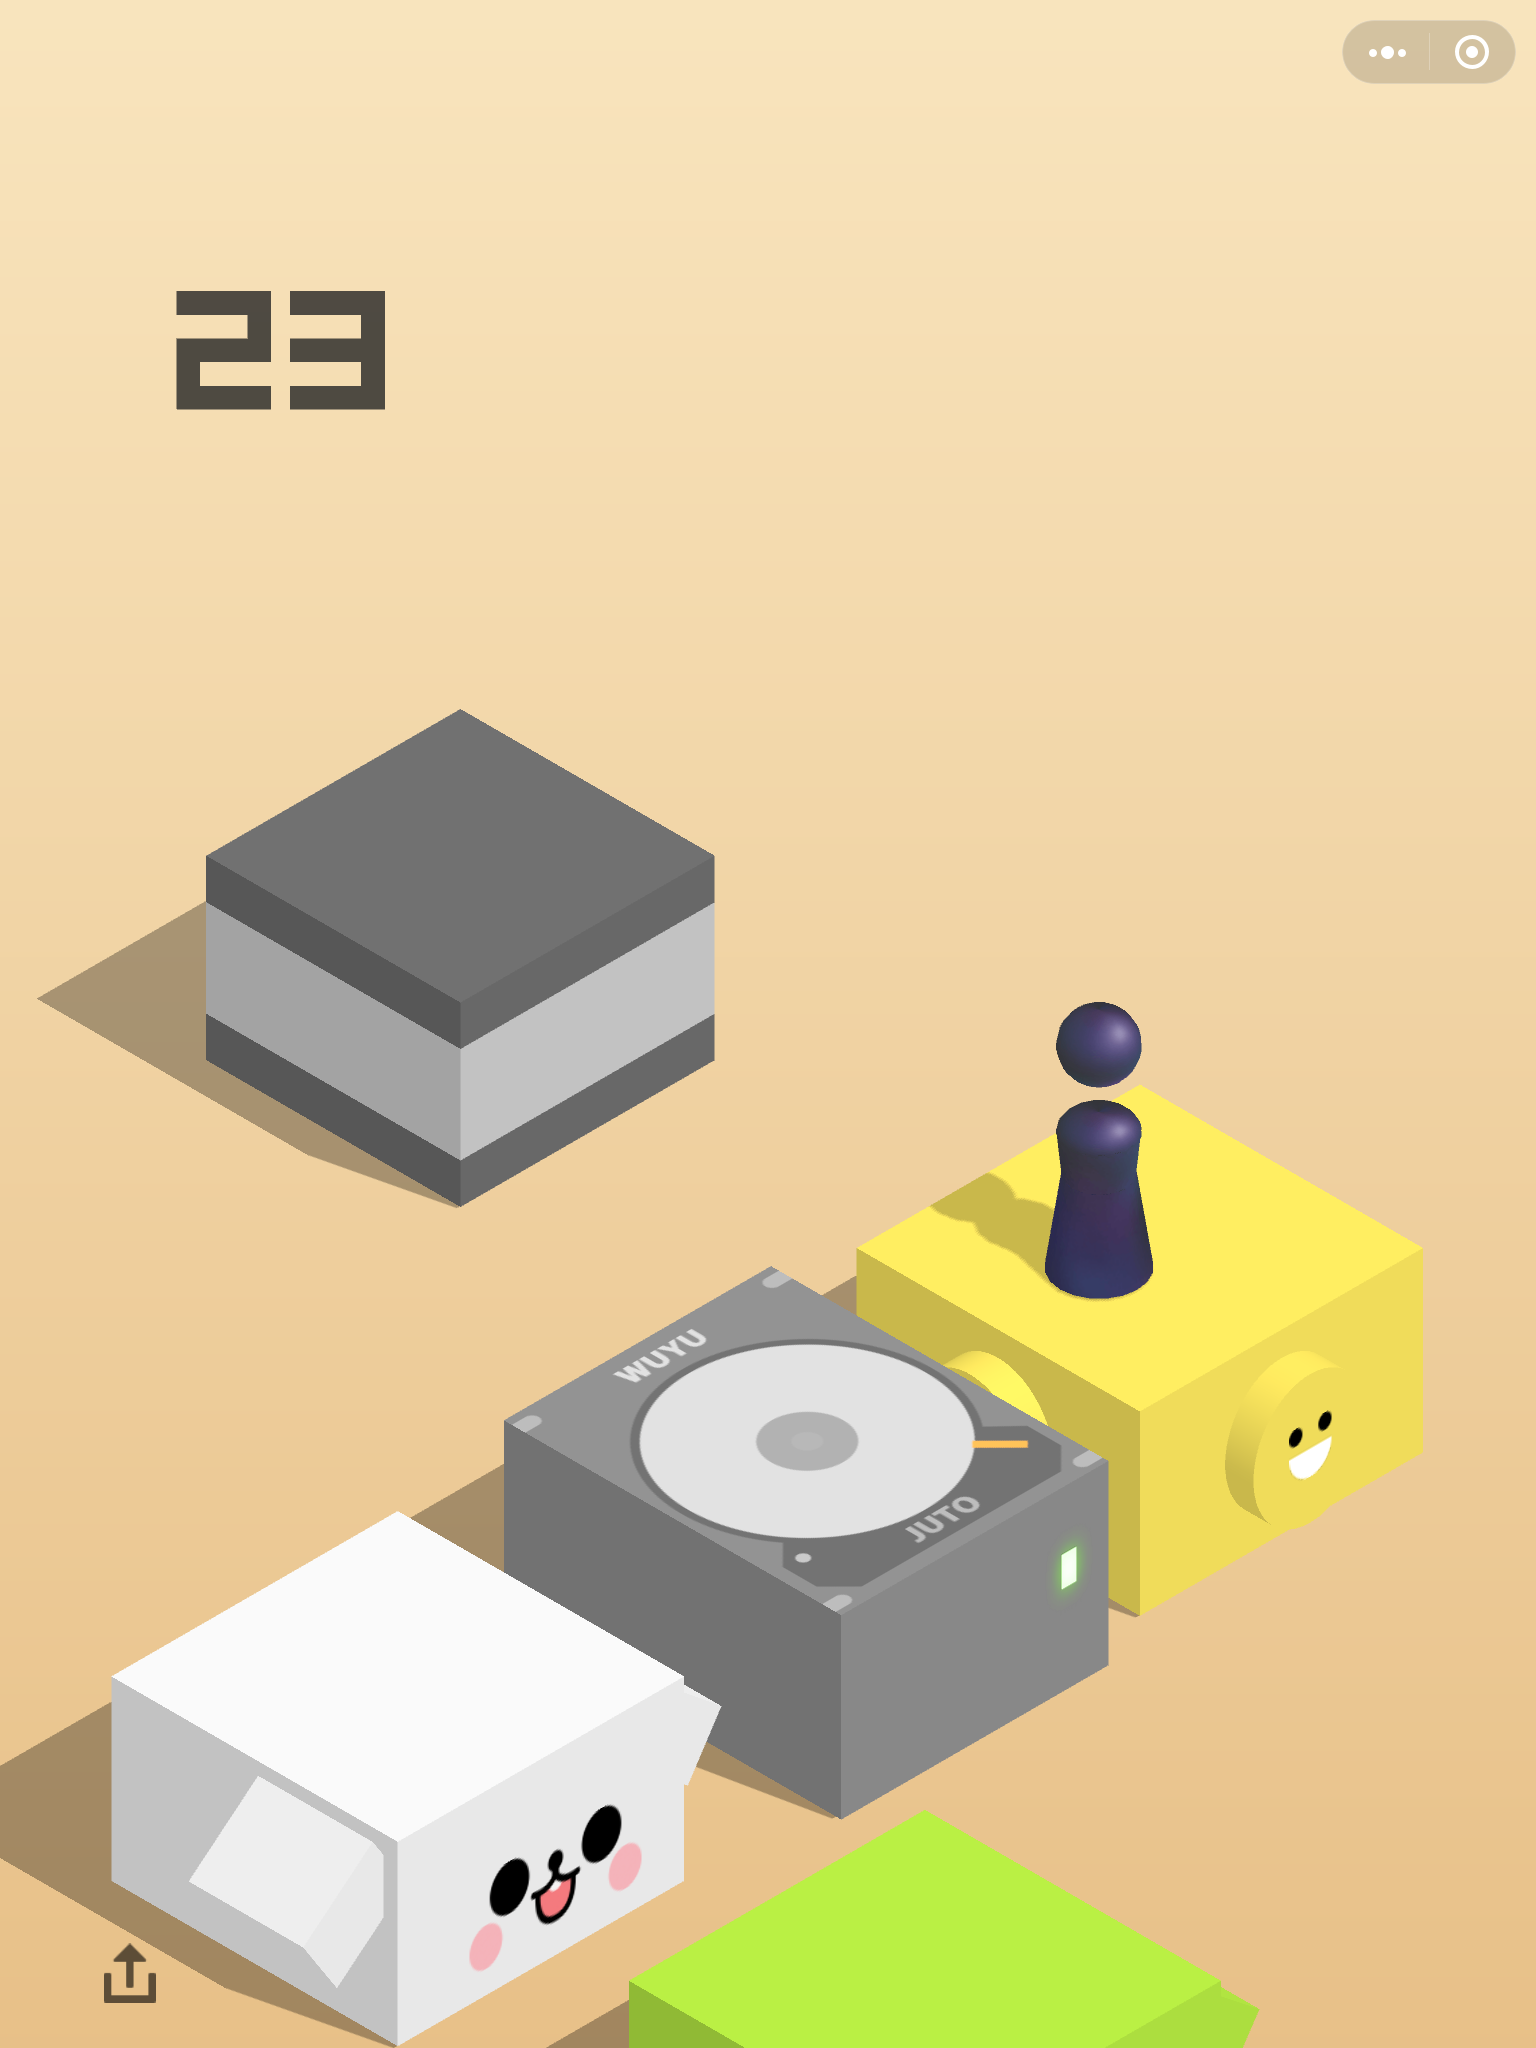f: (499, 1259, 1120, 1830), (102, 1503, 726, 2048), (850, 1063, 1434, 1624), (198, 698, 721, 1216), (626, 1804, 1267, 2048)
r: (1037, 992, 1167, 1300)
